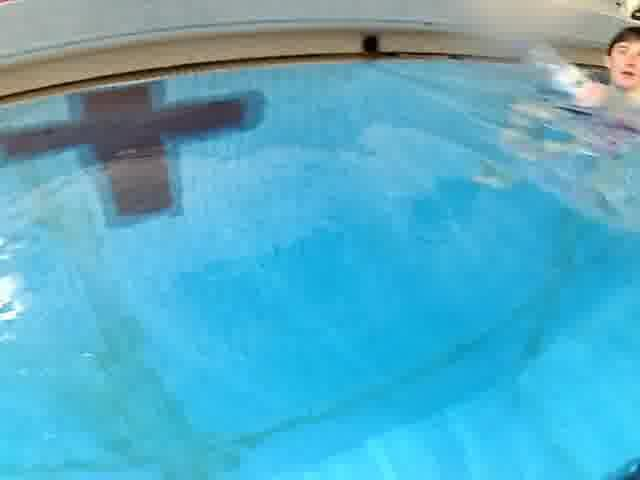Bottle: (500, 34, 618, 120)
